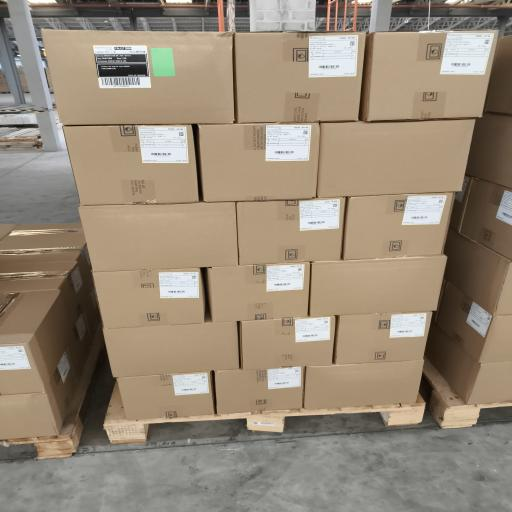pallet: (104, 384, 425, 443), (7, 328, 104, 459), (423, 358, 511, 428)
